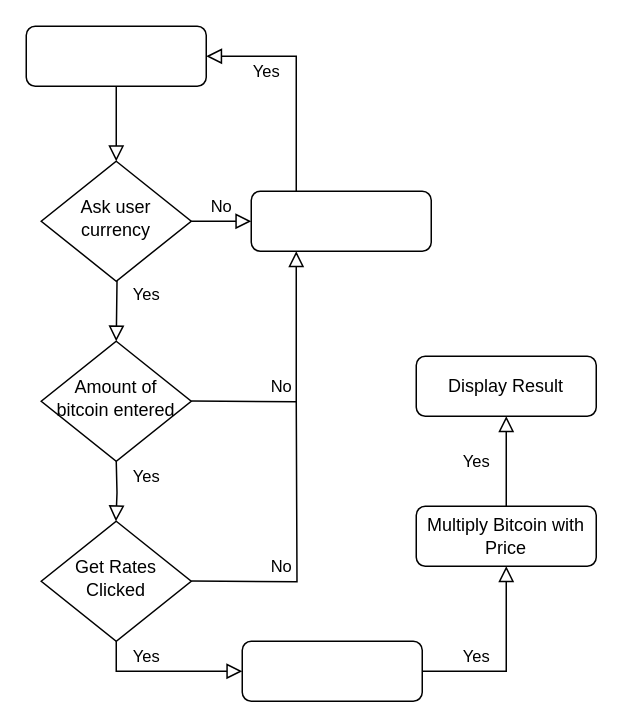
The diagram is 623 pixels wide and 728 high, and some of its shapes have lost their labels. Each missing label, with the centre of its shape:
"Fetch Bitcoin Prices" belongs at point 331,670.
"Main Page" belongs at point 115,55.
"Return" belongs at point 340,220.
